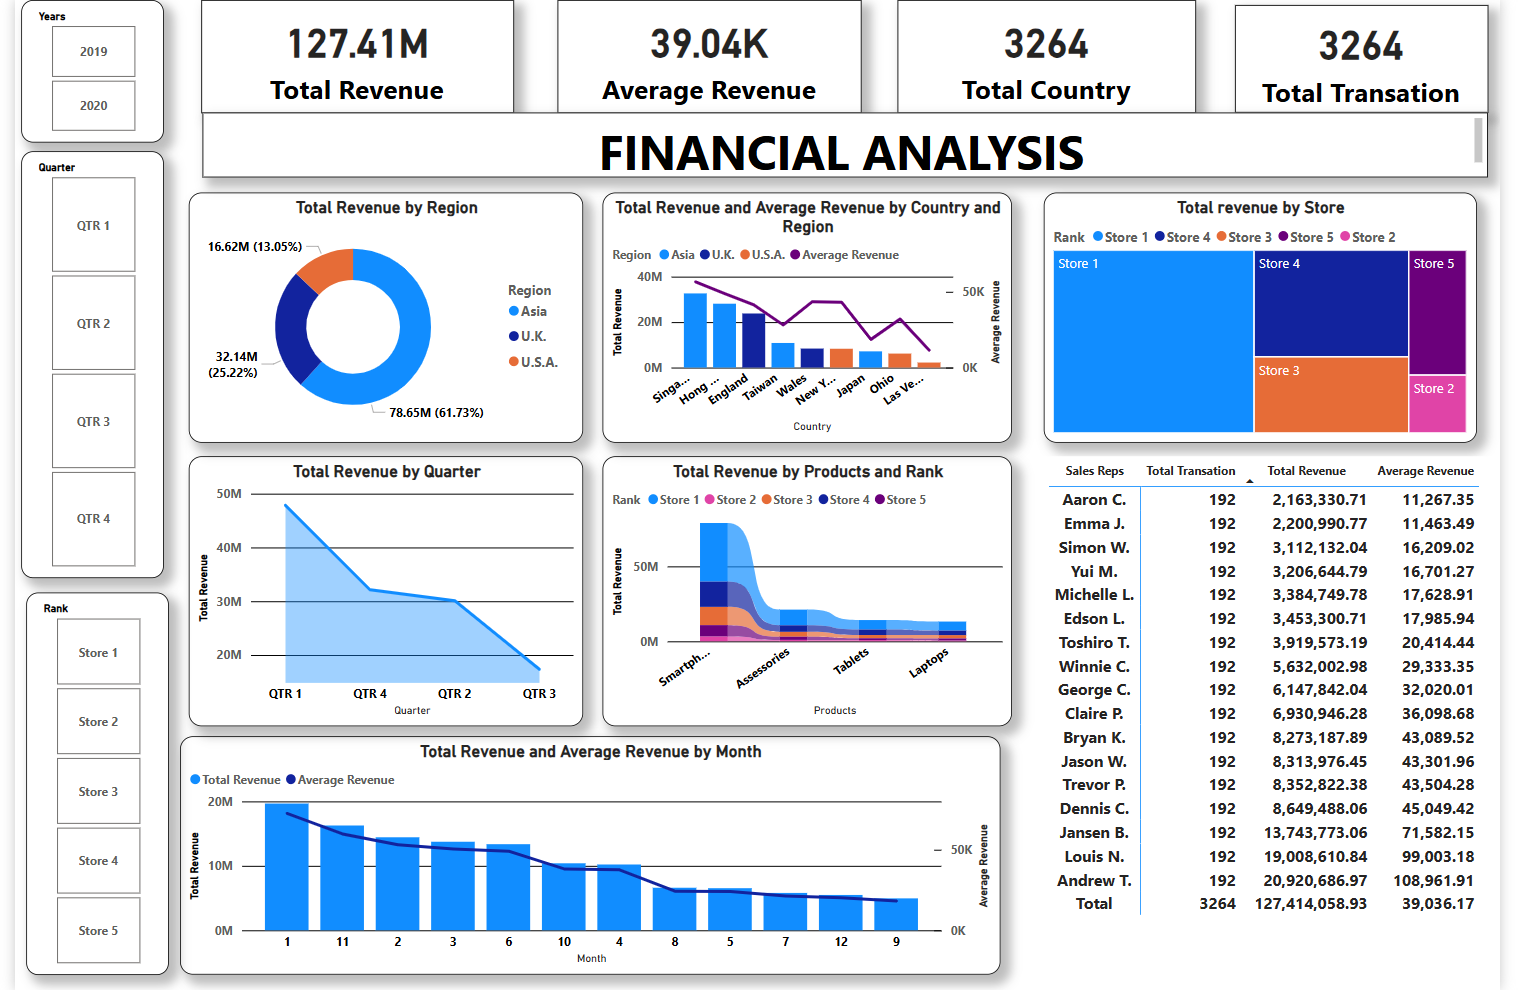

The page's visual inventory and layout, read from the dashboard file:
{"tool":"powerbi","page":{"name":"Page 1","canvas":[1500,1000],"ordinal":0},"visuals":[{"type":"shape","box":[0,0,167,984.9],"z":0},{"type":"shape","box":[167.6,0,1320.1,114.5],"z":1000},{"type":"card","fields":{"Values":["Measure.Total revenue"]},"box":[188.6,0,315.7,114.5],"z":2000},{"type":"card","fields":{"Values":["Measure.Average revenue"]},"box":[547.6,0,307.3,114.5],"z":3000},{"type":"card","fields":{"Values":["Measure.Total country"]},"box":[891.2,0,301.7,114.5],"z":4000},{"type":"card","fields":{"Values":["Measure.Total transation"]},"box":[1232.1,5.6,255.6,109],"z":5000},{"type":"donutChart","fields":{"Y":["Measure.Total revenue"],"Category":["Sheet1.Region"]},"box":[175.9,194.4,398.8,253],"z":6000},{"type":"lineStackedColumnComboChart","fields":{"Category":["Sheet1.Country"],"Y":["Measure.Total revenue"],"Y2":["Measure.Average revenue"],"Series":["Sheet1.Region"]},"box":[593.2,194.4,413.9,253],"z":7000},{"type":"treemap","title":"Total revenue by Store","fields":{"Values":["Measure.Total revenue"],"Group":["Sheet1.Rank"]},"box":[1038.9,194.4,437.3,253],"z":8000},{"type":"areaChart","fields":{"Category":["Sheet1.Quarter"],"Y":["Measure.Total revenue"]},"box":[175.9,460.8,398.8,273.1],"z":9000},{"type":"ribbonChart","fields":{"Category":["Sheet1.Products"],"Y":["Measure.Total revenue"],"Series":["Sheet1.Rank"]},"box":[593.2,460.8,413.9,273.1],"z":10000},{"type":"pivotTable","fields":{"Rows":["Sheet1.Sales Reps"],"Values":["Measure.Total transation","Measure.Total revenue","Measure.Average revenue"]},"box":[1038.9,460.8,460.8,524.5],"z":11000},{"type":"lineStackedColumnComboChart","fields":{"Y":["Measure.Total revenue"],"Y2":["Measure.Average revenue"],"Category":["Sheet1.Month"]},"box":[167,743.7,828.7,241.2],"z":12000},{"type":"slicer","fields":{"Values":["Sheet1.Years"]},"box":[5.8,0,144.2,144.2],"z":13000},{"type":"slicer","fields":{"Values":["Sheet1.Quarter"]},"box":[6.2,153.1,143.8,431.4],"z":14000},{"type":"slicer","fields":{"Values":["Sheet1.Rank"]},"box":[10.8,598.3,143.8,386.5],"z":15000},{"type":"textbox","box":[189.3,113.9,1298.6,65.3],"z":16000}]}

Visuals, with their boxes on the page's 1500x1000 design canvas (x1, y1, x2, y2). These are canvas units, not pixel positions in the 1539x990 screenshot, which may show the page scaled, cropped or inside an application window:
shape: bbox(0, 0, 167, 985)
shape: bbox(168, 0, 1488, 114)
card - Measure.Total revenue: bbox(189, 0, 504, 114)
card - Measure.Average revenue: bbox(548, 0, 855, 114)
card - Measure.Total country: bbox(891, 0, 1193, 114)
card - Measure.Total transation: bbox(1232, 6, 1488, 115)
donutChart - Measure.Total revenue x Sheet1.Region: bbox(176, 194, 575, 447)
lineStackedColumnComboChart - Sheet1.Country x Measure.Total revenue: bbox(593, 194, 1007, 447)
"Total revenue by Store" treemap: bbox(1039, 194, 1476, 447)
areaChart - Sheet1.Quarter x Measure.Total revenue: bbox(176, 461, 575, 734)
ribbonChart - Sheet1.Products x Measure.Total revenue: bbox(593, 461, 1007, 734)
pivotTable - Sheet1.Sales Reps x Measure.Total transation: bbox(1039, 461, 1500, 985)
lineStackedColumnComboChart - Measure.Total revenue x Measure.Average revenue: bbox(167, 744, 996, 985)
slicer - Sheet1.Years: bbox(6, 0, 150, 144)
slicer - Sheet1.Quarter: bbox(6, 153, 150, 584)
slicer - Sheet1.Rank: bbox(11, 598, 155, 985)
textbox: bbox(189, 114, 1488, 179)
